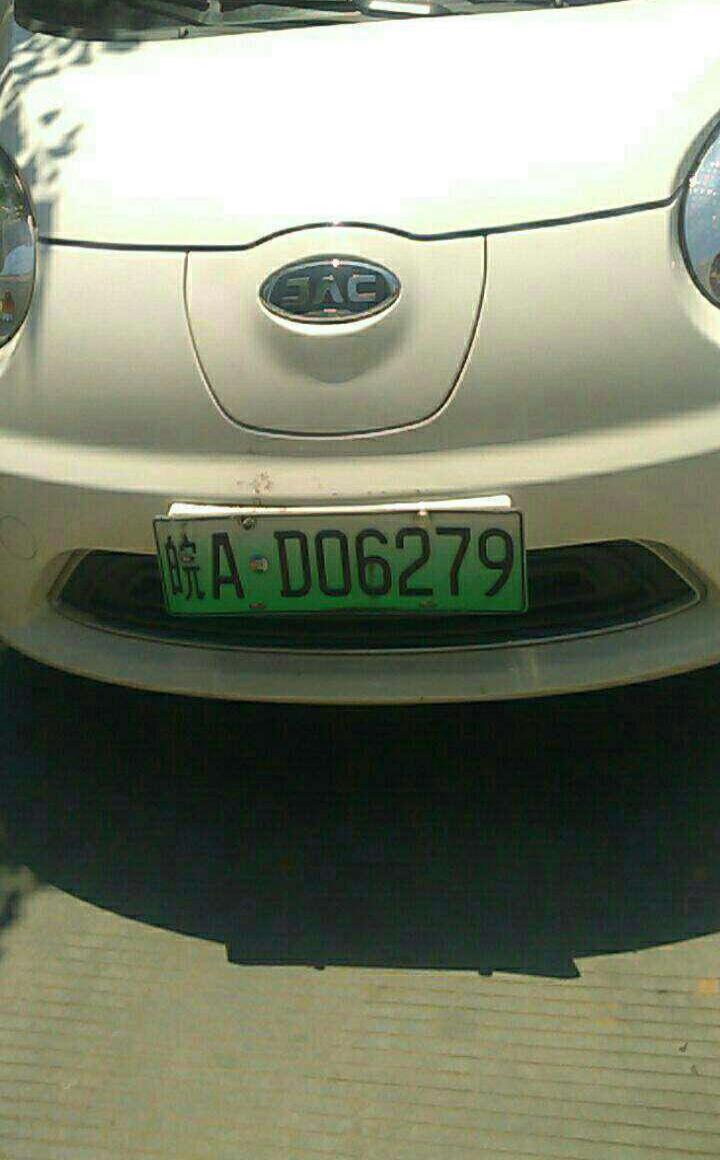car_id: (155, 514, 529, 615)
